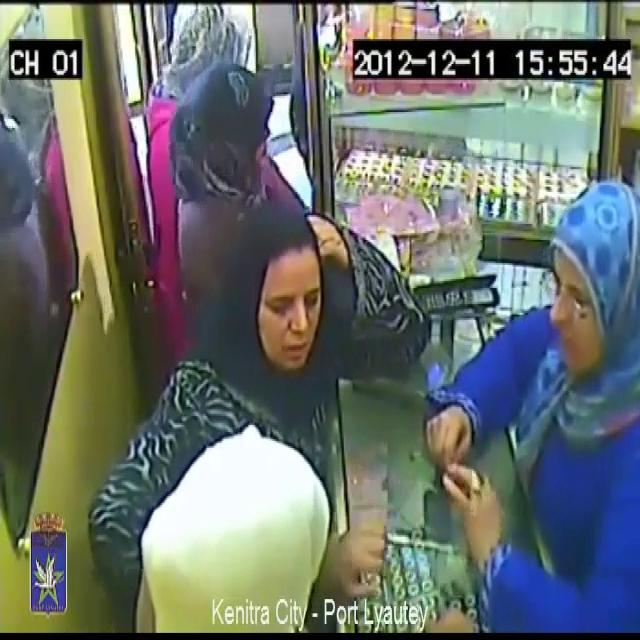normal: (464, 151, 640, 640), (134, 410, 462, 640), (226, 190, 350, 396), (133, 0, 224, 261), (208, 2, 303, 192)
